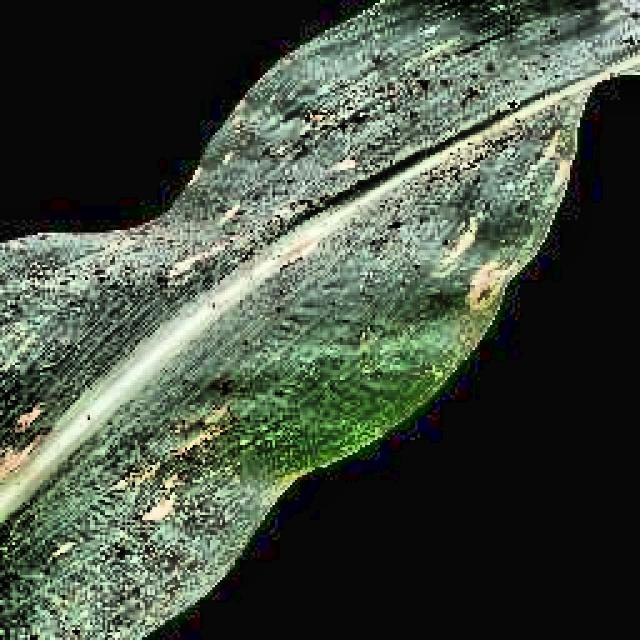common_rust: (5, 0, 640, 605)
